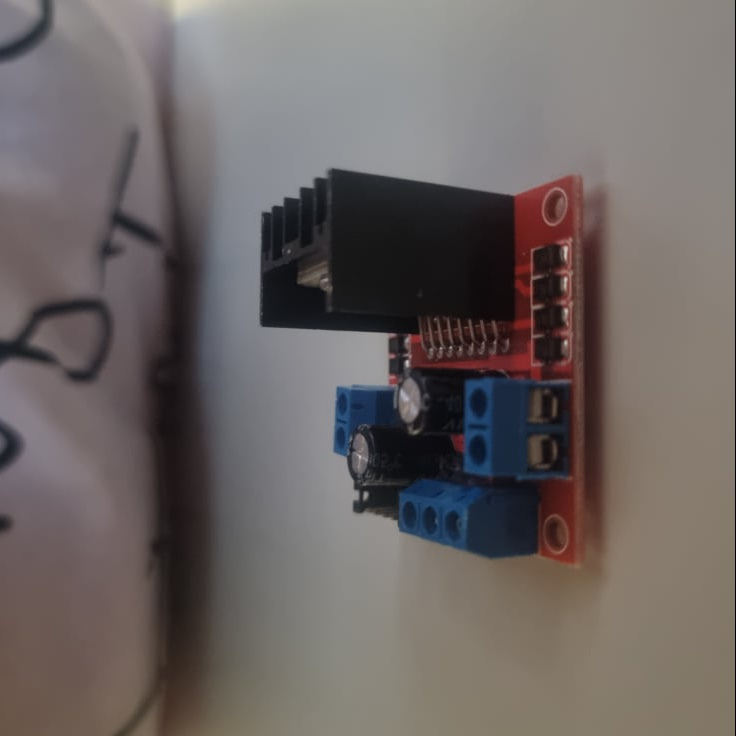MOTOR: (260, 164, 588, 572)
